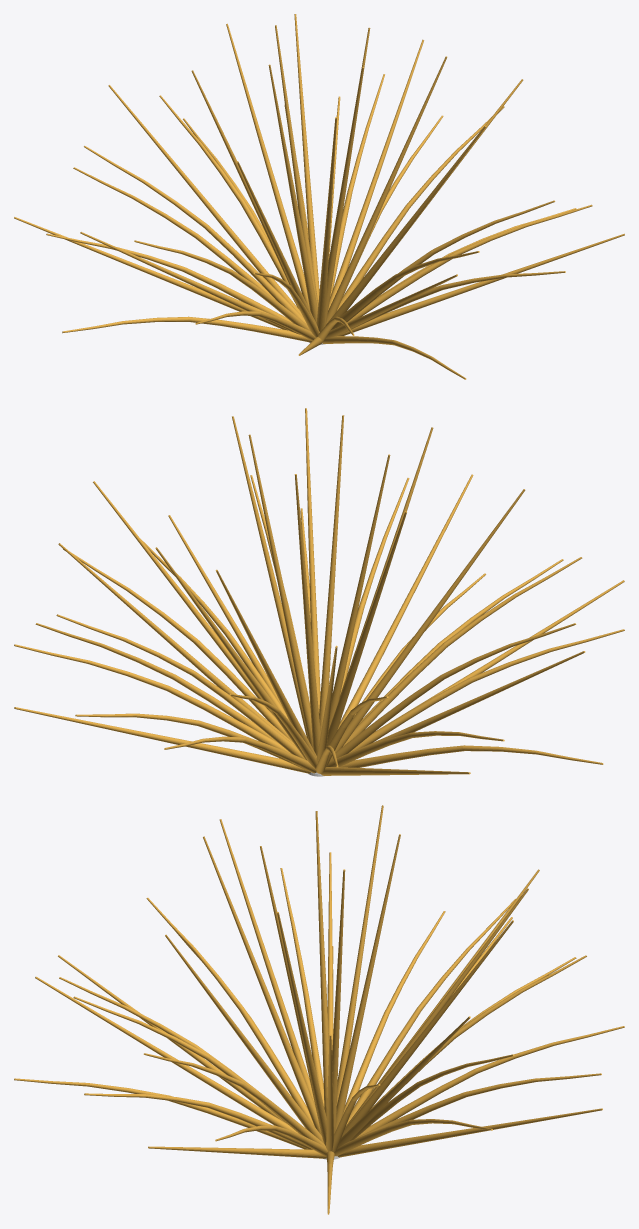
Rendered from Sand Bush.fbx.
The picture shows the model from 3 angles, top to bottom: view 1: azimuth 30°, elevation 25°; view 2: azimuth 150°, elevation 25°; view 3: azimuth 270°, elevation 25°; orthographic projection. The views are drawn at different scales.
Visible parts, largest first — view 1: bush base|bush leaf|Dupli|6, bush base|bush leaf|Dupli|, bush base|bush leaf|Dupli|7, bush base|bush leaf bended|Dupli|17.1, bush base|bush leaf|Dupli|18, bush base|bush leaf|Dupli|14, bush base|bush leaf|Dupli|3, bush base|bush leaf|Dupli|1, bush base|bush leaf bended|Dupli|6.1, bush base|bush leaf bended|Dupli|15.1, bush base|bush leaf|Dupli|8, bush base|bush leaf|Dupli|9 (+20 smaller); view 2: bush base|bush leaf|Dupli|4, bush base|bush leaf|Dupli|13, bush base|bush leaf|Dupli|9, bush base|bush leaf|Dupli|2, bush base|bush leaf bended|Dupli|2.1, bush base|bush leaf|Dupli|19, bush base|bush leaf bended|Dupli|13.1, bush base|bush leaf bended|Dupli|12.1, bush base|bush leaf bended|Dupli|14.1, bush base|bush leaf bended|Dupli|3.1, bush base|bush leaf bended|Dupli|15.1, bush base|bush leaf|Dupli|10 (+24 smaller); view 3: bush base|bush leaf|Dupli|11, bush base|bush leaf|Dupli|19, bush base|bush leaf|Dupli|10, bush base|bush leaf|Dupli|16, bush base|bush leaf|Dupli|14, bush base|bush leaf bended|Dupli|0.1, bush base|bush leaf|Dupli|2, bush base|bush leaf bended|Dupli|12.1, bush base|bush leaf|Dupli|13, bush base|bush leaf|Dupli|1, bush base|bush leaf|Dupli|8, bush base|bush leaf bended|Dupli|17.1 (+22 smaller).
Part boxes in pixels (x1,y1,x2,y2): bush base|bush leaf|Dupli|6: (326, 56, 447, 324); bush base|bush leaf|Dupli|: (226, 23, 309, 309); bush base|bush leaf|Dupli|7: (338, 233, 624, 335); bush base|bush leaf bended|Dupli|17.1: (84, 146, 306, 324); bush base|bush leaf|Dupli|18: (108, 85, 303, 317); bush base|bush leaf|Dupli|14: (268, 64, 317, 323); bush base|bush leaf|Dupli|3: (328, 39, 423, 309); bush base|bush leaf|Dupli|1: (294, 14, 319, 302); bush base|bush leaf bended|Dupli|6.1: (347, 204, 592, 322); bush base|bush leaf bended|Dupli|15.1: (62, 316, 311, 342); bush base|bush leaf|Dupli|8: (326, 125, 486, 324); bush base|bush leaf|Dupli|9: (324, 67, 363, 326); bush base|bush leaf|Dupli|4: (248, 434, 313, 748); bush base|bush leaf|Dupli|13: (334, 489, 525, 752); bush base|bush leaf|Dupli|9: (319, 415, 344, 732); bush base|bush leaf|Dupli|2: (14, 707, 310, 773); bush base|bush leaf bended|Dupli|2.1: (56, 614, 304, 759); bush base|bush leaf|Dupli|19: (294, 474, 320, 755); bush base|bush leaf bended|Dupli|13.1: (349, 629, 624, 752); bush base|bush leaf bended|Dupli|12.1: (343, 557, 582, 746); bush base|bush leaf bended|Dupli|14.1: (329, 623, 576, 761); bush base|bush leaf bended|Dupli|3.1: (14, 644, 290, 753); bush base|bush leaf bended|Dupli|15.1: (339, 745, 603, 767); bush base|bush leaf|Dupli|10: (337, 474, 473, 729); bush base|bush leaf|Dupli|11: (203, 836, 321, 1134); bush base|bush leaf|Dupli|19: (336, 834, 400, 1129); bush base|bush leaf|Dupli|10: (35, 976, 298, 1133); bush base|bush leaf|Dupli|16: (336, 805, 383, 1105); bush base|bush leaf|Dupli|14: (315, 811, 329, 1118); bush base|bush leaf bended|Dupli|0.1: (357, 1026, 624, 1136); bush base|bush leaf|Dupli|2: (337, 1108, 602, 1157); bush base|bush leaf bended|Dupli|12.1: (146, 897, 314, 1125); bush base|bush leaf|Dupli|13: (219, 819, 314, 1103); bush base|bush leaf|Dupli|1: (342, 920, 513, 1136); bush base|bush leaf|Dupli|8: (165, 934, 323, 1143); bush base|bush leaf bended|Dupli|17.1: (346, 899, 515, 1125).
Bounding box in the file's own units: 609 × 337 × 588.
